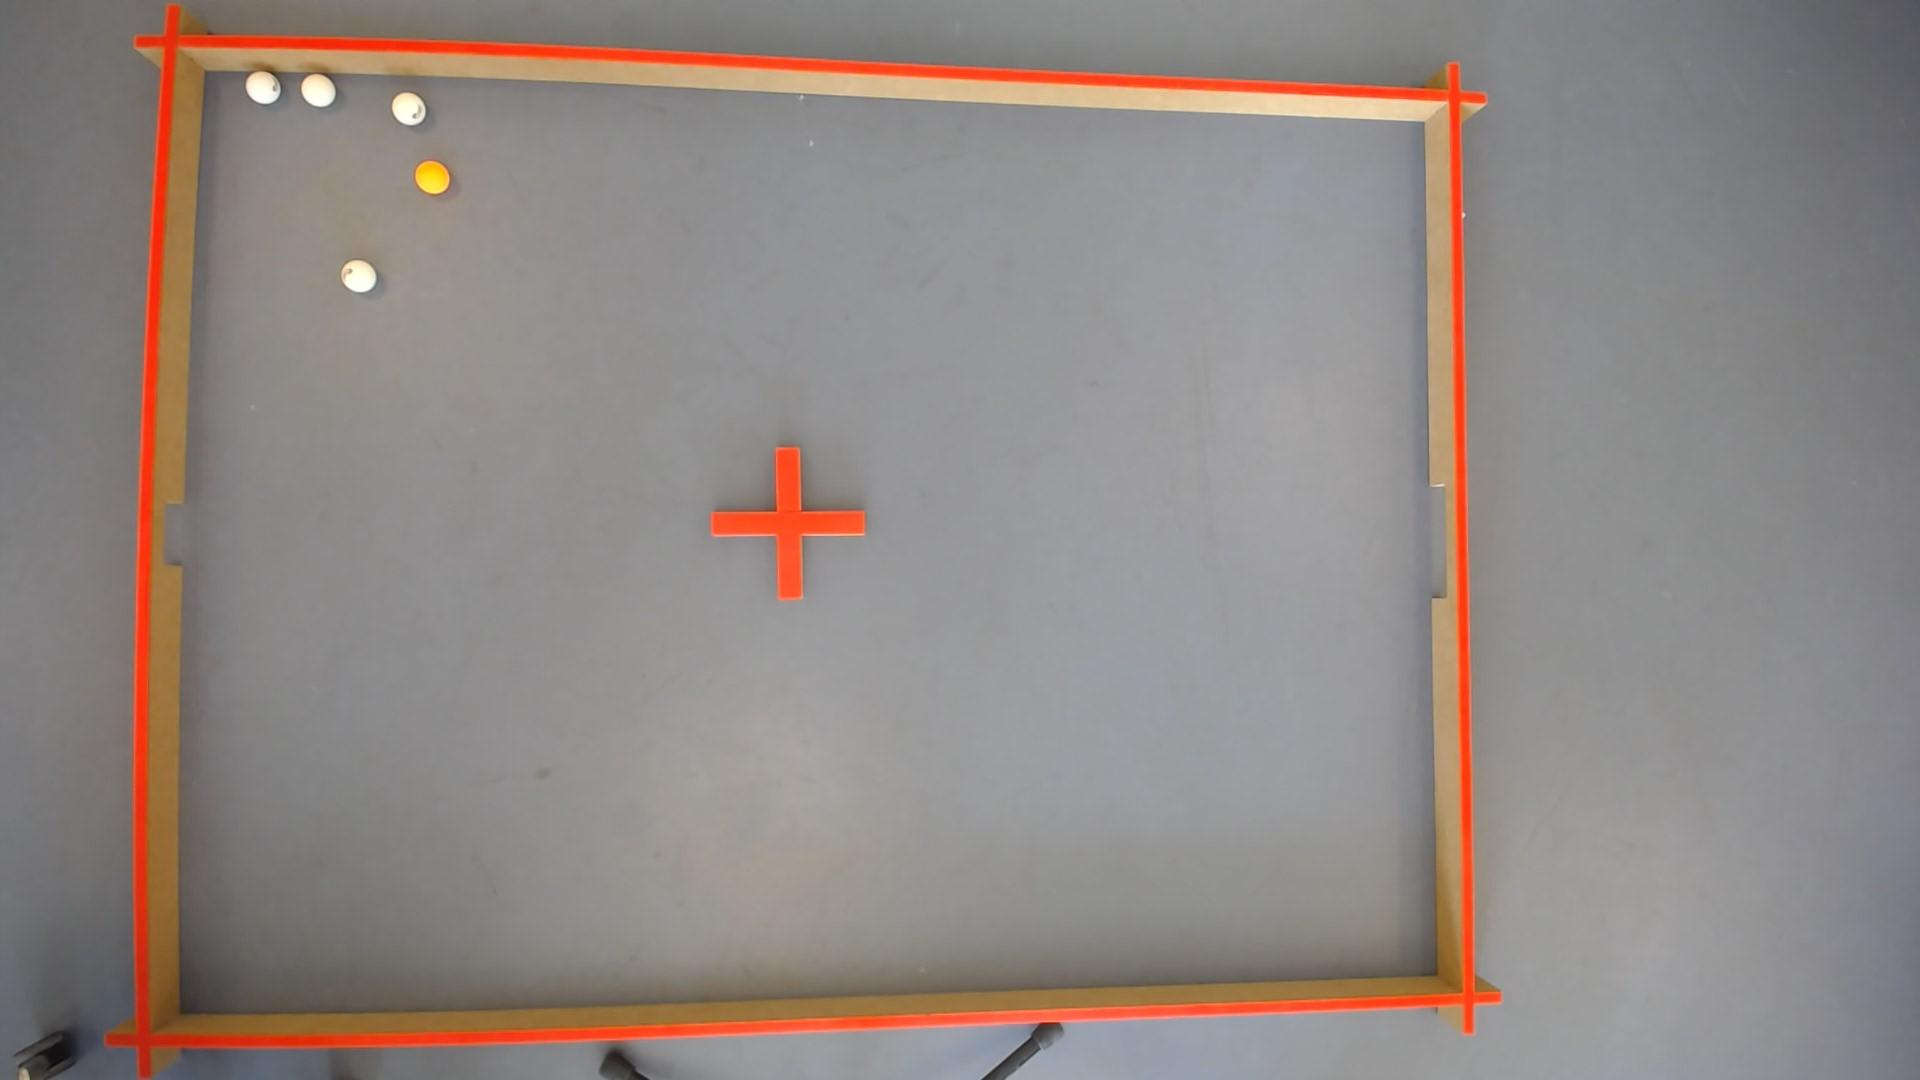orange: (414, 160, 448, 191)
white: (390, 88, 425, 123), (339, 258, 375, 291), (244, 69, 278, 102), (299, 71, 334, 103)
